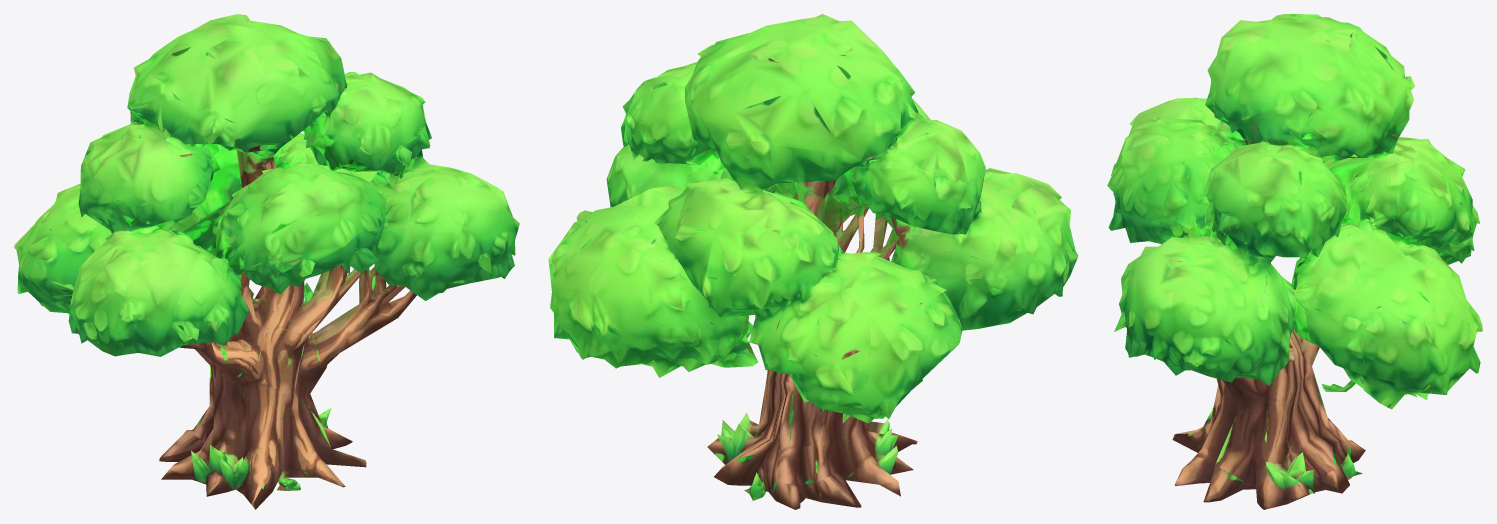
Rendered from emerald-tree.glb.
The picture shows the model from 3 angles, left to right: view 1: azimuth 30°, elevation 25°; view 2: azimuth 150°, elevation 25°; view 3: azimuth 270°, elevation 25°; orthographic projection. The views are drawn at different scales.
Size of the model in its own units: 8.51 by 8 by 6.22.
1 material, 1 textured.
